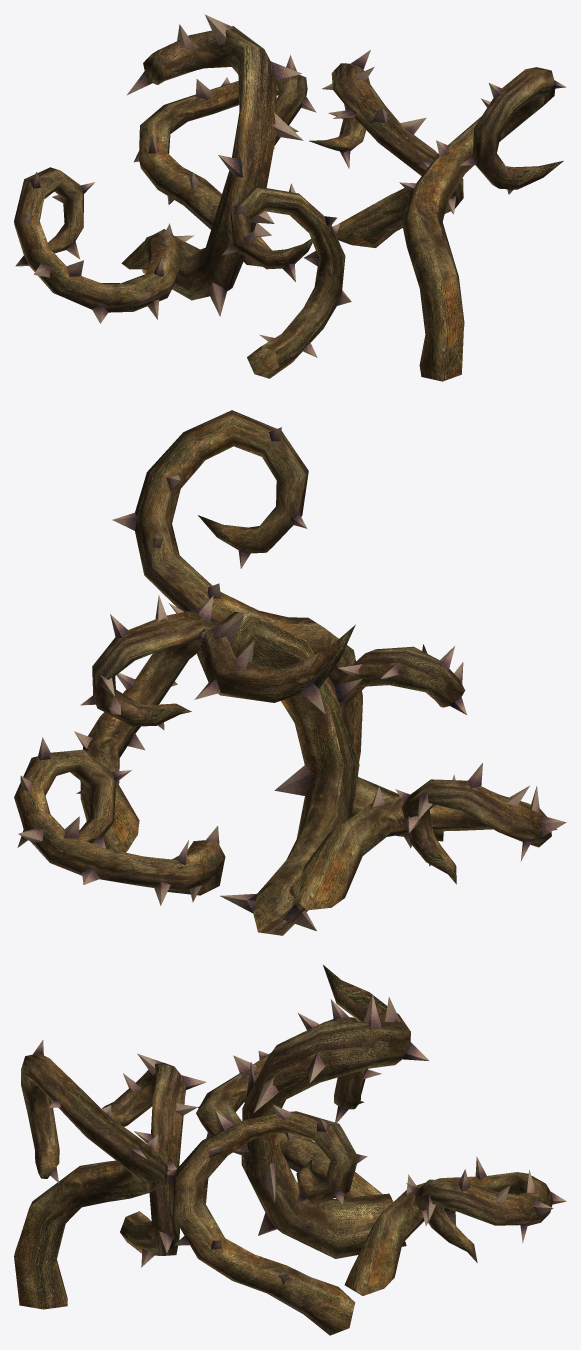
File: obj_mtthund_thorn05d.fbx
The picture shows the model from 3 angles, top to bottom: view 1: azimuth 30°, elevation 25°; view 2: azimuth 150°, elevation 25°; view 3: azimuth 270°, elevation 25°; orthographic projection. The views are drawn at different scales.
Visible parts, largest first — view 1: obj_mtthund_thorn05D01; view 2: obj_mtthund_thorn05D01; view 3: obj_mtthund_thorn05D01.
Boxes of the visible parts, <box> form: obj_mtthund_thorn05D01: <box>14,14,566,381</box>; obj_mtthund_thorn05D01: <box>14,410,566,935</box>; obj_mtthund_thorn05D01: <box>14,965,566,1335</box>.
Size of the model in its own units: 21.91 by 13.21 by 22.48.
